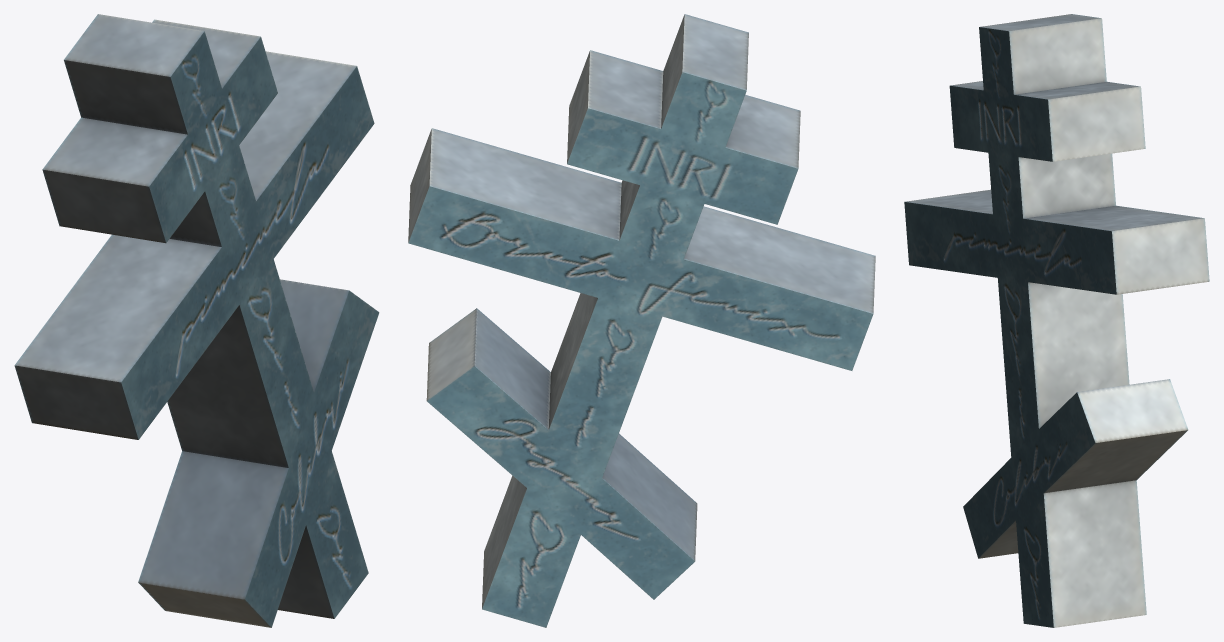
The picture shows the model from 3 angles, left to right: view 1: azimuth 30°, elevation 25°; view 2: azimuth 150°, elevation 25°; view 3: azimuth 270°, elevation 25°; orthographic projection. The views are drawn at different scales.
Parts seen in each view (by area): view 1: Cruz_Orto_Cube.011; view 2: Cruz_Orto_Cube.011; view 3: Cruz_Orto_Cube.011.
Boxes of the visible parts, x1,y1,x2,y2 form: Cruz_Orto_Cube.011: (14,14,379,627); Cruz_Orto_Cube.011: (408,14,875,627); Cruz_Orto_Cube.011: (904,14,1209,627).
Size of the model in its own units: 1.9 by 2.69 by 1.37.
